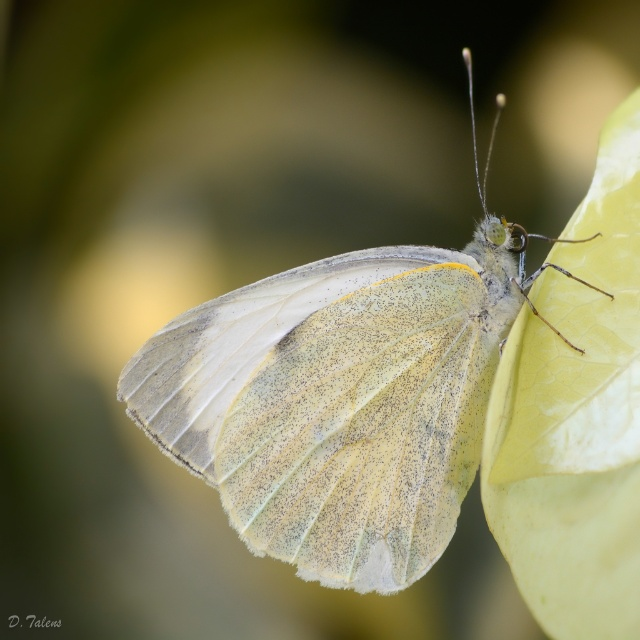Butterfly: (116, 48, 615, 596)
